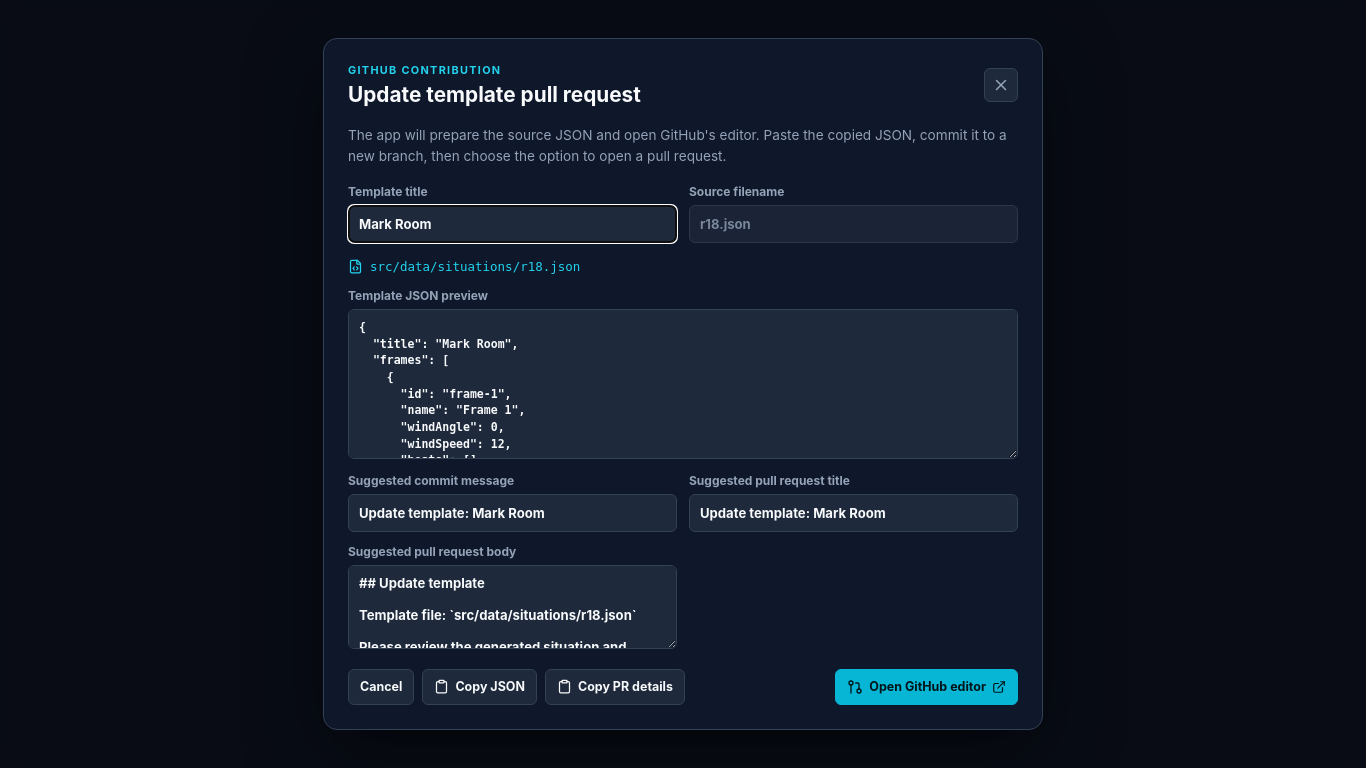
Test: TemplateContributionDialog › locks the filename for an update and exposes pull request metadata
Check: the dialog "Update template pull request" is shown, box [323,38,1043,730]
Check: the field named "template filename" holds "r18.json", box [689,205,1018,243]
Click the button "Copy PR details" at (615, 687), box [545,669,685,705]
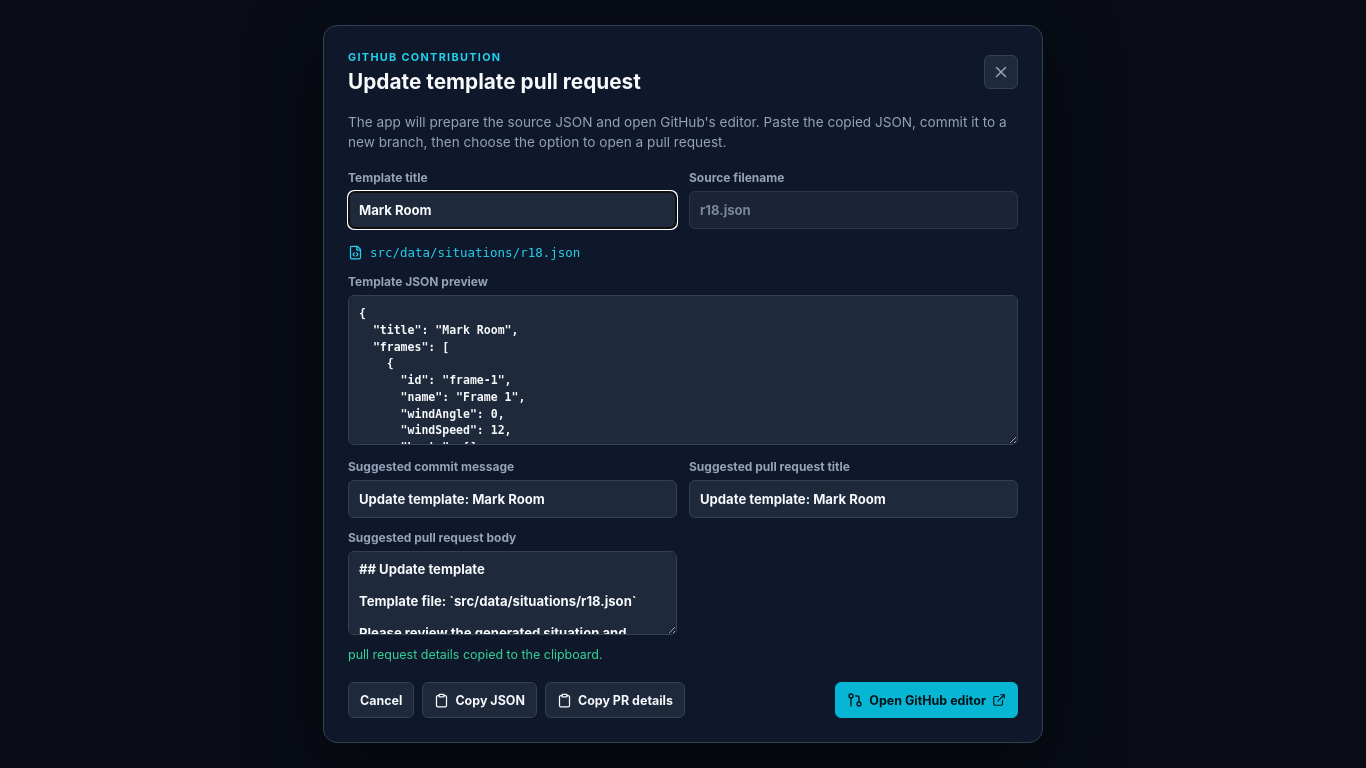
Check: the message shows "pull request details copied", box [348,647,602,662]
